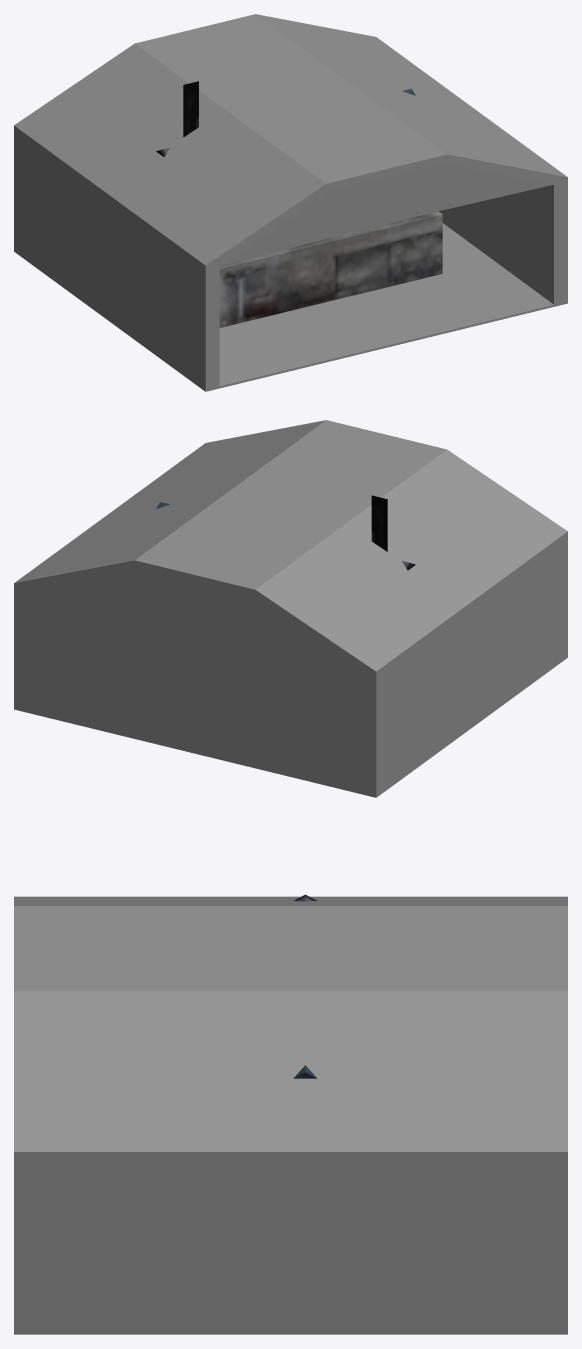
File: House1.FBX
3 views of the same model, one above another, from view 1: azimuth 30°, elevation 25°; view 2: azimuth 150°, elevation 25°; view 3: azimuth 270°, elevation 25° (orthographic). The views are drawn at different scales.
Parts seen in each view (by area): view 1: Hangar, House1, LightingConducter; view 2: Hangar, LightingConducter; view 3: Hangar.
Boxes of the visible parts, box(x1,y1,x2,y2) form: Hangar: box(14, 14, 567, 391); House1: box(156, 88, 442, 327); LightingConducter: box(183, 81, 198, 137); Hangar: box(14, 420, 567, 797); LightingConducter: box(371, 495, 387, 551); Hangar: box(14, 896, 567, 1334).
Size of the model in its own units: 2703 by 2477 by 1521.
